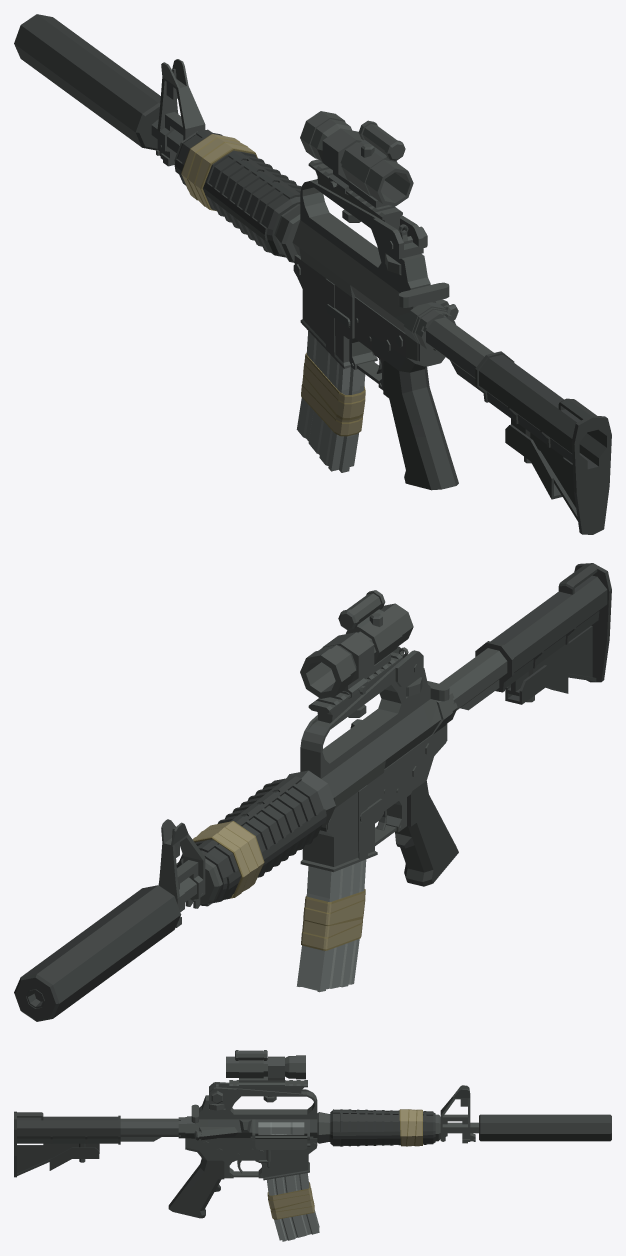
3 views of the same model, one above another, from view 1: azimuth 30°, elevation 25°; view 2: azimuth 150°, elevation 25°; view 3: azimuth 270°, elevation 25° (orthographic). The views are drawn at different scales.
Parts seen in each view (by area): view 1: M733, stock, silencer, scope, magazine, magazine tape, handguard tape, charging handle; view 2: M733, stock, silencer, scope, magazine, magazine tape, handguard tape; view 3: M733, stock, silencer, scope, magazine, magazine tape, handguard tape, bolt.
Part boxes in pixels (x1,y1,x2,y2): M733: [151, 59, 493, 490]; stock: [475, 351, 611, 534]; silencer: [14, 14, 160, 150]; scope: [300, 111, 413, 231]; magazine: [296, 331, 365, 472]; magazine tape: [301, 353, 365, 436]; handguard tape: [181, 134, 257, 211]; charging handle: [398, 282, 449, 307]; M733: [158, 646, 507, 927]; stock: [475, 563, 611, 704]; silencer: [14, 885, 181, 1021]; scope: [300, 590, 413, 723]; magazine: [296, 859, 366, 992]; magazine tape: [301, 889, 365, 950]; handguard tape: [192, 821, 264, 898]; M733: [120, 1082, 478, 1218]; stock: [14, 1111, 120, 1177]; silencer: [479, 1114, 611, 1141]; scope: [226, 1050, 307, 1102]; magazine: [267, 1134, 319, 1241]; magazine tape: [267, 1182, 314, 1219]; handguard tape: [399, 1109, 422, 1146]; bolt: [258, 1122, 304, 1134].
Bounding box in the file's own units: 34.01 × 169 × 476.
1 material, 1 textured.
